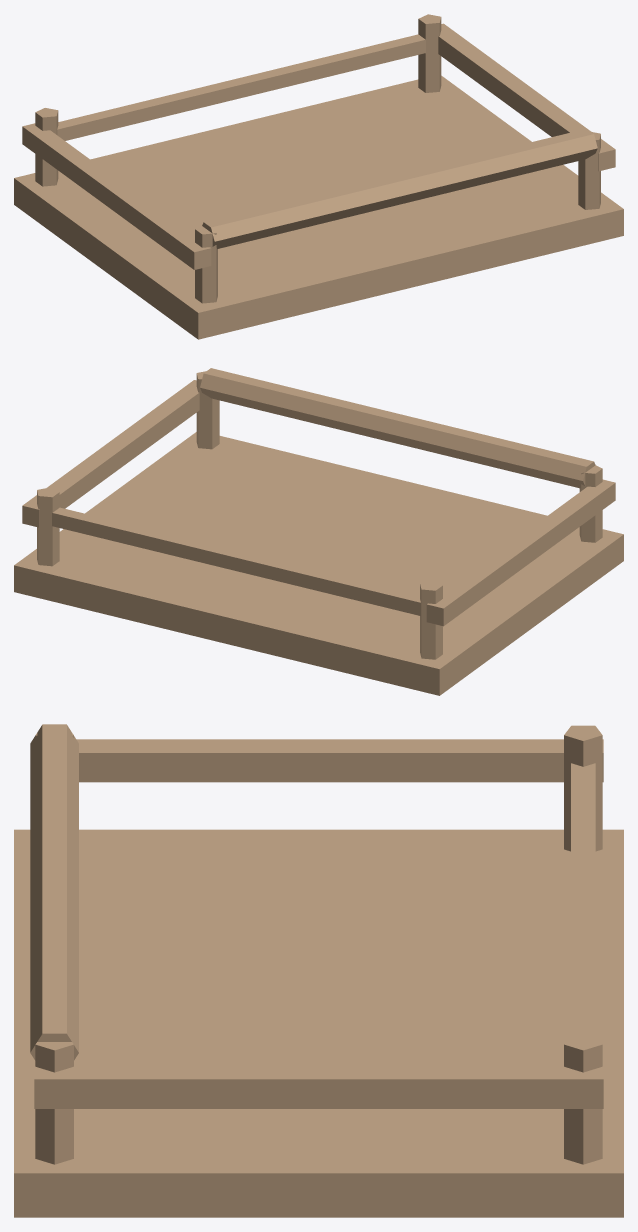
The model's file is SM_Glider_Perch.fbx.
3 views of the same model, one above another, from view 1: azimuth 30°, elevation 25°; view 2: azimuth 150°, elevation 25°; view 3: azimuth 270°, elevation 25° (orthographic). The views are drawn at different scales.
Parts seen in each view (by area): view 1: SM_Glider_Perch; view 2: SM_Glider_Perch; view 3: SM_Glider_Perch.
Part boxes in pixels (x1=…): SM_Glider_Perch: x1=14, y1=14, x2=623, y2=339; SM_Glider_Perch: x1=14, y1=368, x2=623, y2=695; SM_Glider_Perch: x1=14, y1=724, x2=623, y2=1217.
Bounding box in the file's own units: 1.5 × 2 × 0.452.
